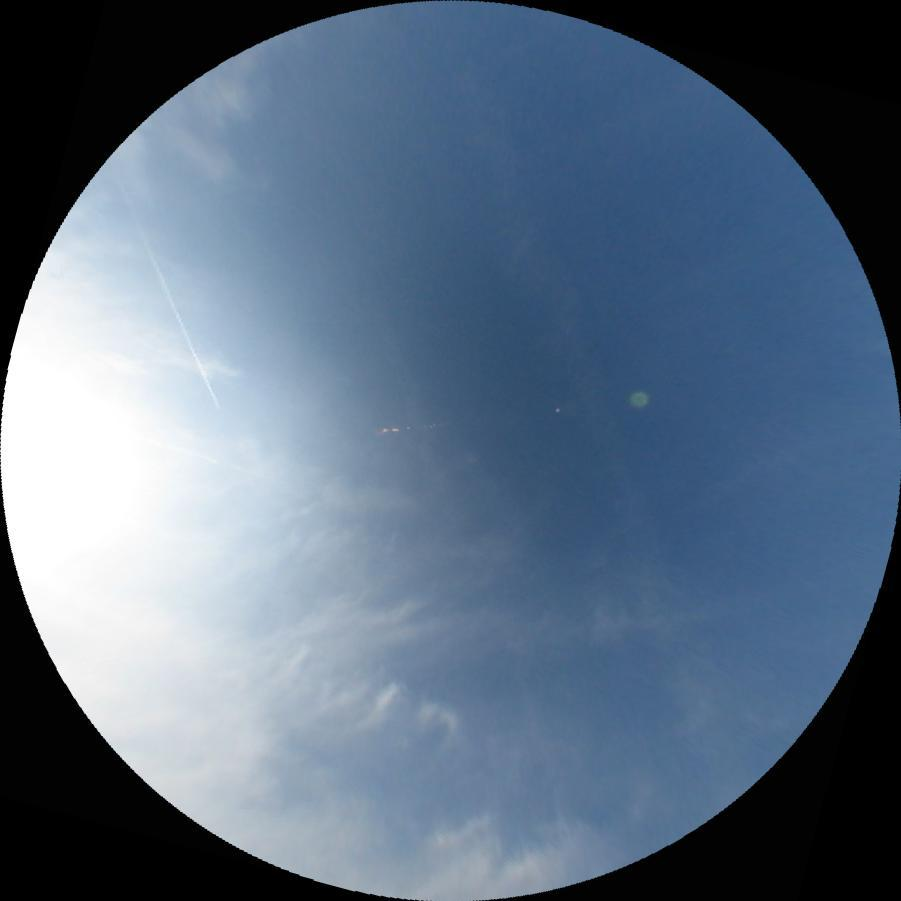contrail veryold: (442, 122, 781, 800)
contrail young: (114, 177, 222, 411)
parasite: (123, 427, 260, 476)
sun: (0, 402, 148, 650)
